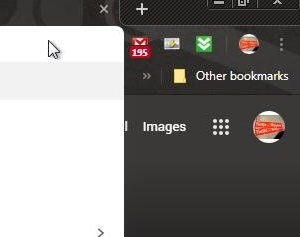cursor: (47, 38, 61, 59)
